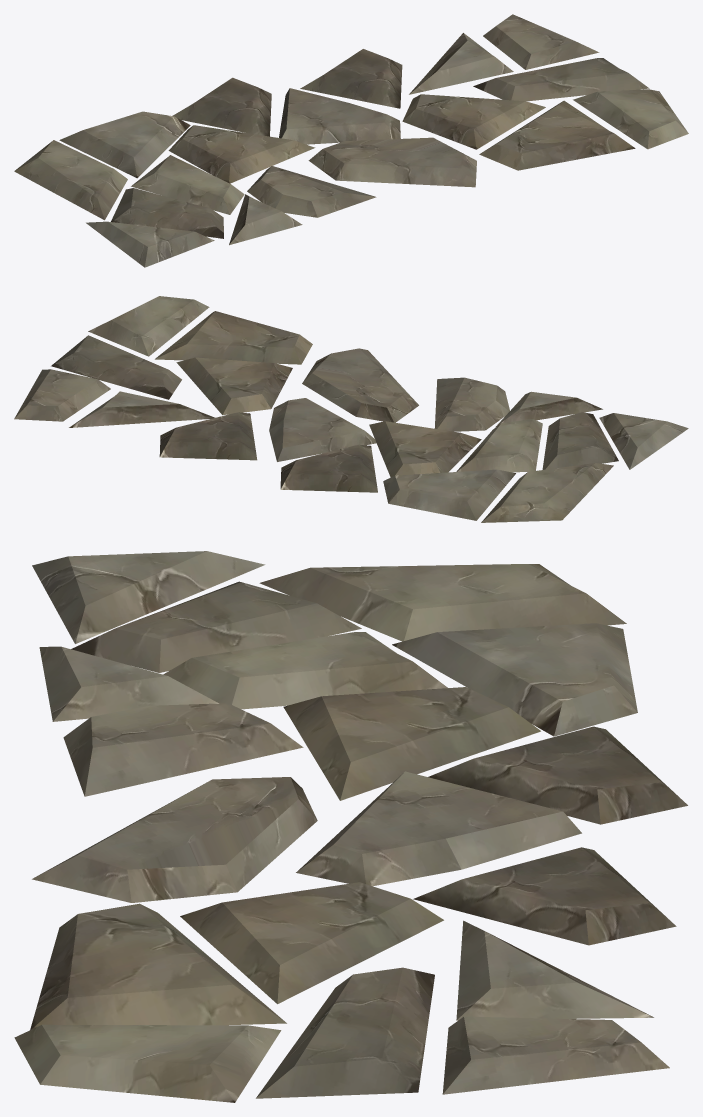
Rendered from Piso Pedra Tav.fbx.
3 views of the same model, one above another, from view 1: azimuth 30°, elevation 25°; view 2: azimuth 150°, elevation 25°; view 3: azimuth 270°, elevation 25° (orthographic). The views are drawn at different scales.
Visible parts, largest first — view 1: copia piso .019; view 2: copia piso .019; view 3: copia piso .019.
Boxes of the visible parts, bbox=[...] form: copia piso .019: bbox=[14, 14, 688, 267]; copia piso .019: bbox=[14, 296, 688, 522]; copia piso .019: bbox=[14, 551, 687, 1102].
Bounding box in the file's own units: 227 × 4.99 × 121.
